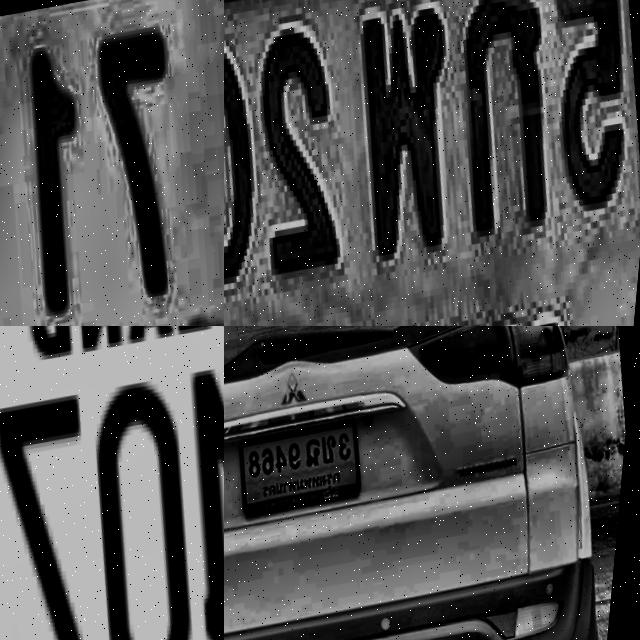license-plate: (224, 0, 640, 326), (0, 0, 224, 326), (0, 326, 224, 640), (237, 419, 375, 522)
